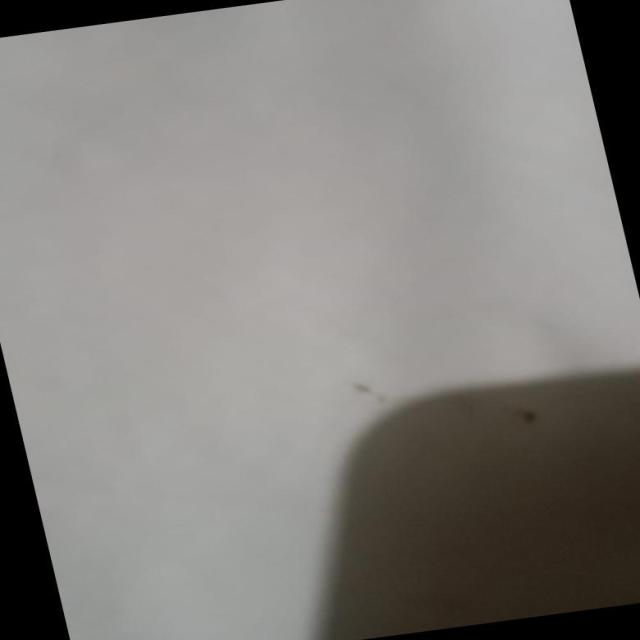stain: (448, 377, 565, 452), (333, 363, 422, 428)
